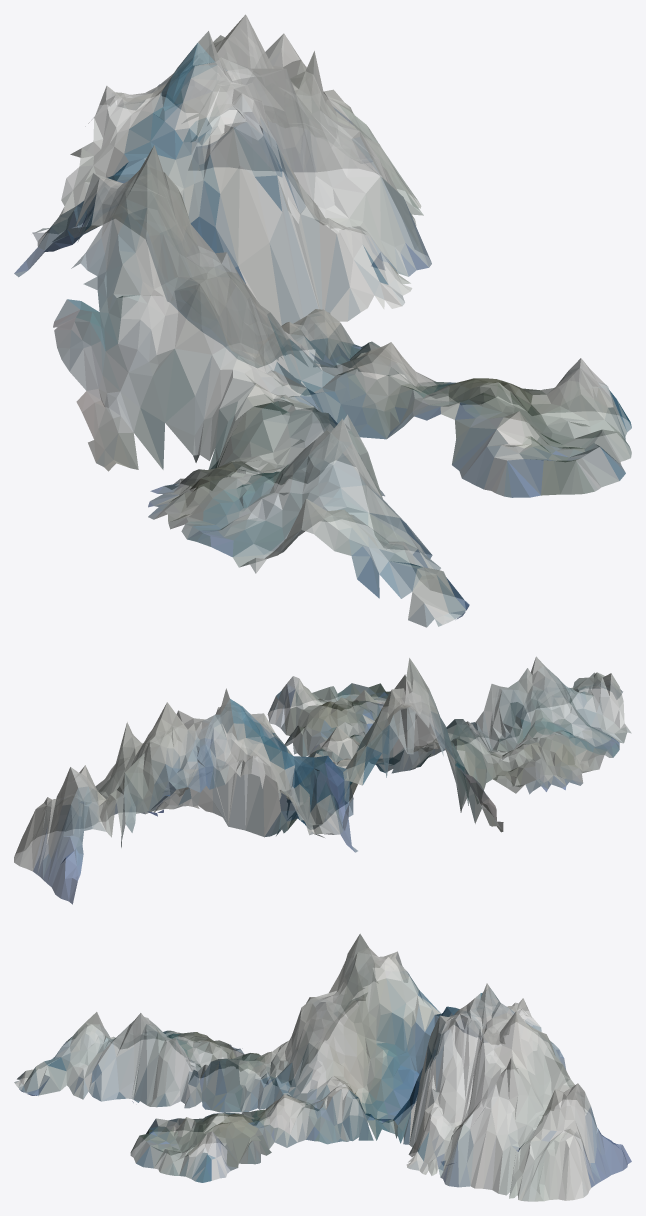
File: mountain.glb
3 views of the same model, one above another, from view 1: azimuth 30°, elevation 25°; view 2: azimuth 150°, elevation 25°; view 3: azimuth 270°, elevation 25° (orthographic). The views are drawn at different scales.
Parts seen in each view (by area): view 1: norway; view 2: norway; view 3: norway.
Part boxes in pixels (bbox=[...]): norway: bbox=[14, 14, 631, 627]; norway: bbox=[14, 656, 631, 904]; norway: bbox=[14, 933, 631, 1201].
Size of the model in its own units: 0.1296 by 0.0642 by 0.2192.
1 material, 1 textured.
